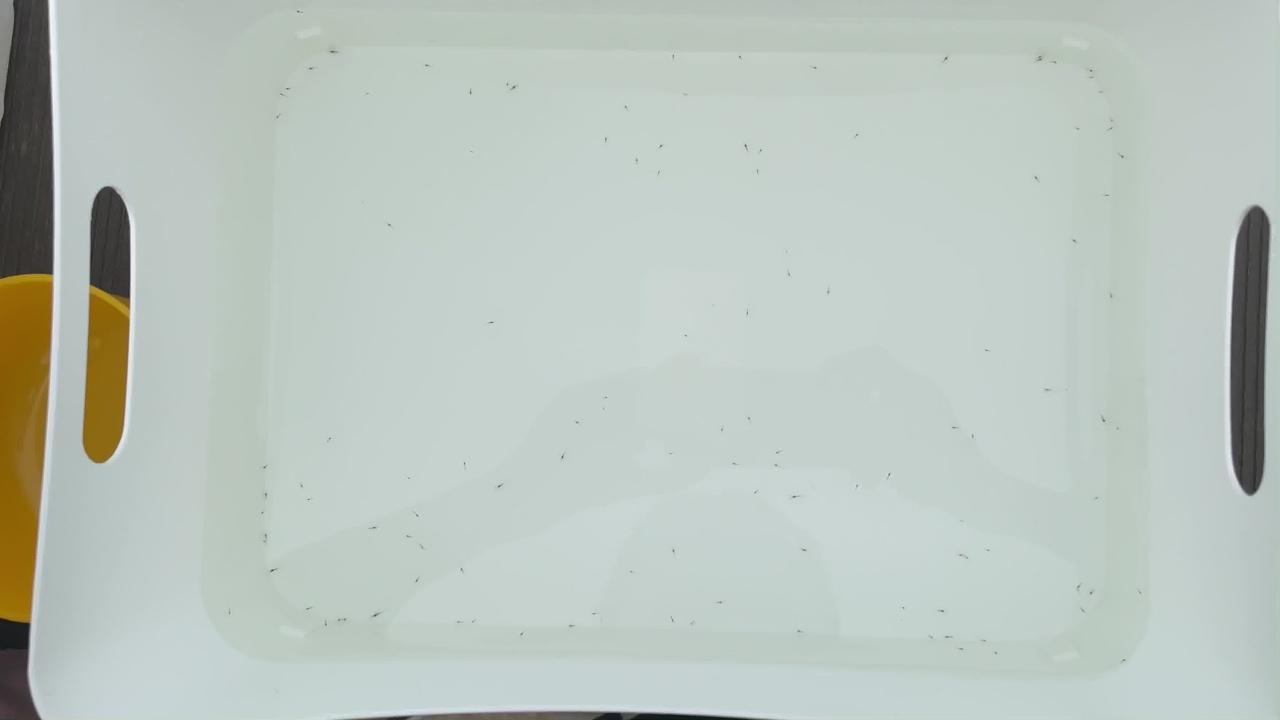shrimp: (292, 7, 304, 15), (326, 47, 338, 55), (305, 68, 317, 76), (282, 87, 294, 95), (276, 94, 288, 102), (272, 114, 284, 122), (364, 89, 376, 97), (419, 61, 431, 69), (466, 91, 478, 99), (500, 82, 512, 90), (510, 85, 522, 93), (383, 224, 395, 232), (488, 318, 500, 326), (602, 135, 614, 143), (631, 156, 643, 164), (654, 170, 666, 178), (654, 145, 666, 153), (618, 105, 630, 113), (668, 53, 680, 61), (682, 91, 694, 99), (733, 53, 745, 61), (737, 145, 749, 153), (754, 148, 766, 156), (752, 166, 764, 174), (679, 334, 691, 342), (742, 309, 754, 317), (783, 272, 795, 280), (823, 288, 835, 296), (779, 247, 791, 255), (852, 128, 864, 136), (807, 68, 819, 76), (940, 56, 952, 64), (1038, 56, 1050, 64), (1034, 54, 1046, 62), (1049, 60, 1061, 68), (1082, 67, 1094, 75), (1086, 73, 1098, 81), (1095, 87, 1107, 95), (1108, 116, 1120, 124), (1105, 125, 1117, 133), (1117, 152, 1129, 160), (1071, 123, 1083, 131), (1101, 189, 1113, 197), (1068, 240, 1080, 248), (1030, 176, 1042, 184), (1106, 294, 1118, 302), (1097, 418, 1109, 426), (1042, 389, 1054, 397), (982, 348, 994, 356), (948, 426, 960, 434), (966, 435, 978, 443), (1092, 496, 1104, 504), (1119, 657, 1131, 665), (1133, 588, 1145, 596), (1087, 590, 1099, 598), (1077, 606, 1089, 614), (1072, 585, 1084, 593), (993, 650, 1005, 658), (979, 636, 991, 644), (957, 648, 969, 656), (942, 636, 954, 644), (926, 636, 938, 644), (898, 606, 910, 614), (939, 606, 951, 614), (953, 553, 965, 561), (960, 554, 972, 562), (983, 547, 995, 555), (958, 518, 970, 526), (881, 470, 893, 478), (853, 481, 865, 489), (791, 495, 803, 503), (798, 547, 810, 555), (795, 627, 807, 635), (713, 601, 725, 609), (684, 624, 696, 632), (668, 618, 680, 626), (624, 568, 636, 576), (668, 548, 680, 556), (751, 487, 763, 495), (771, 464, 783, 472), (773, 449, 785, 457), (729, 459, 741, 467), (744, 413, 756, 421), (716, 426, 728, 434), (665, 451, 677, 459), (599, 394, 611, 402), (599, 406, 611, 414), (571, 420, 583, 428), (557, 456, 569, 464), (493, 483, 505, 491), (459, 462, 471, 470), (403, 477, 415, 485), (414, 510, 426, 518), (404, 535, 416, 543), (367, 526, 379, 534), (325, 435, 337, 443), (296, 480, 308, 488), (303, 497, 315, 505), (260, 493, 272, 501), (259, 467, 271, 475), (258, 507, 270, 515), (263, 530, 275, 538), (260, 540, 272, 548), (265, 565, 277, 573), (224, 609, 236, 617), (303, 606, 315, 614), (319, 622, 331, 630), (332, 619, 344, 627), (339, 618, 351, 626), (372, 612, 384, 620), (413, 573, 425, 581), (415, 544, 427, 552), (456, 569, 468, 577), (452, 621, 464, 629), (467, 619, 479, 627), (517, 632, 529, 640), (568, 624, 580, 632), (587, 610, 599, 618)
